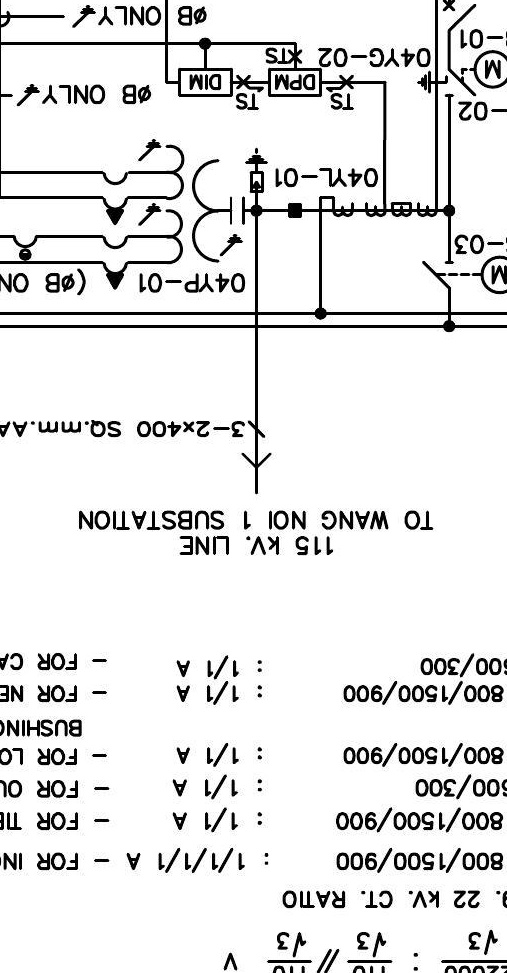115_cvt_1p: (100, 138, 246, 290)
115_la: (244, 147, 269, 193)
DIM: (178, 67, 233, 97)
DPM: (268, 68, 322, 97)
